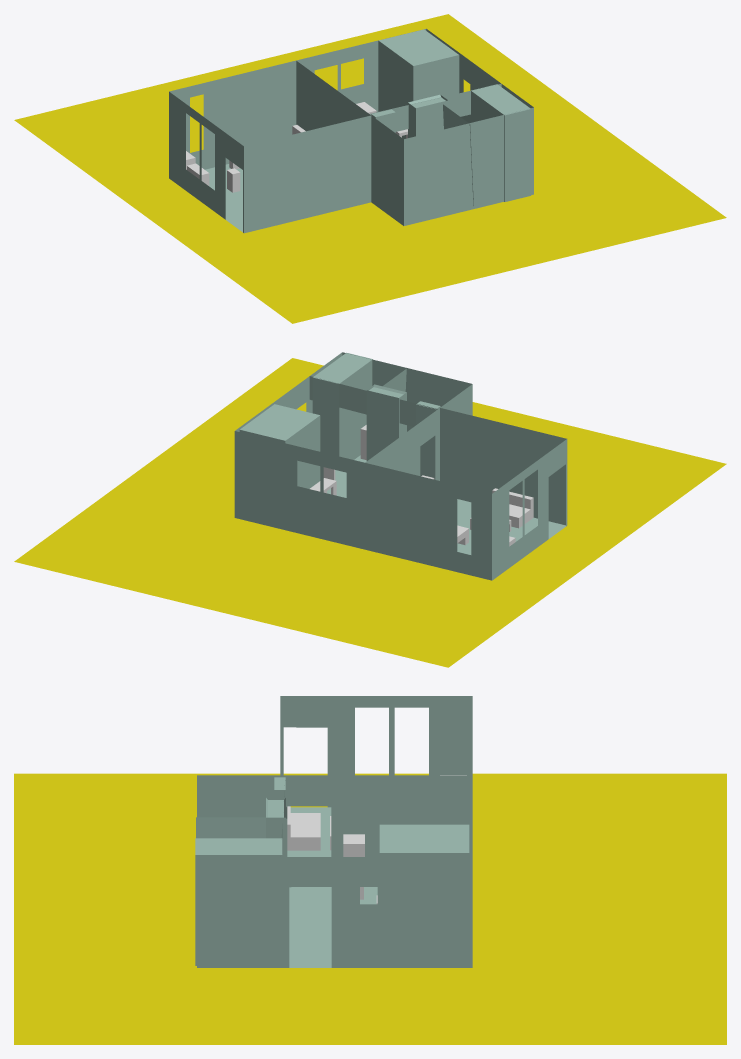
File: quartier.glb
3 views of the same model, one above another, from view 1: azimuth 30°, elevation 25°; view 2: azimuth 150°, elevation 25°; view 3: azimuth 270°, elevation 25° (orthographic). The views are drawn at different scales.
Visible parts, largest first — view 1: Plane, Apt; view 2: Plane, Apt, Couch; view 3: Plane, Apt, Couch.
Part boxes in pixels (box(x1,y1,x2,y2)): Plane: box(14, 14, 726, 323); Apt: box(169, 28, 533, 233); Plane: box(14, 358, 726, 667); Apt: box(234, 352, 567, 580); Couch: box(492, 488, 533, 528); Plane: box(14, 773, 726, 1044); Apt: box(195, 696, 472, 967); Couch: box(287, 806, 320, 850).
Size of the model in its own units: 14.35 by 2.86 by 15.93.
